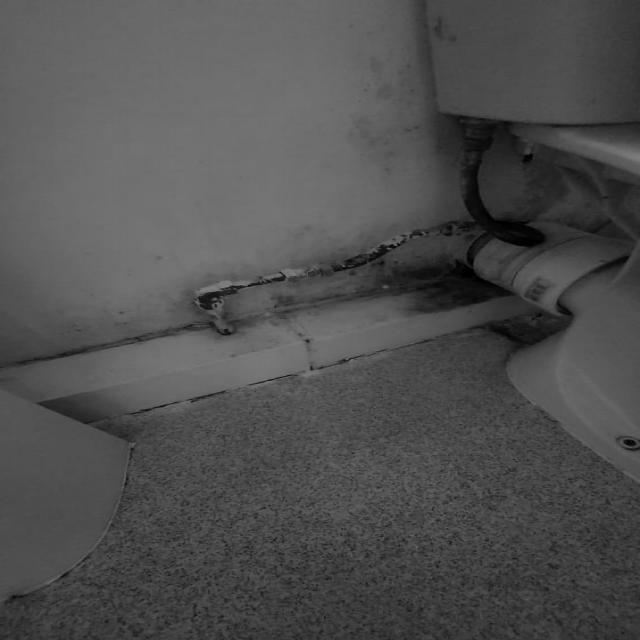stain marks: (338, 12, 443, 185), (0, 299, 199, 353), (362, 255, 507, 315), (256, 218, 422, 259), (252, 270, 367, 315)
